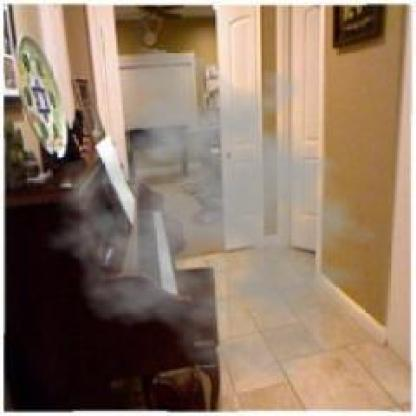Smoke: (44, 45, 393, 388)
